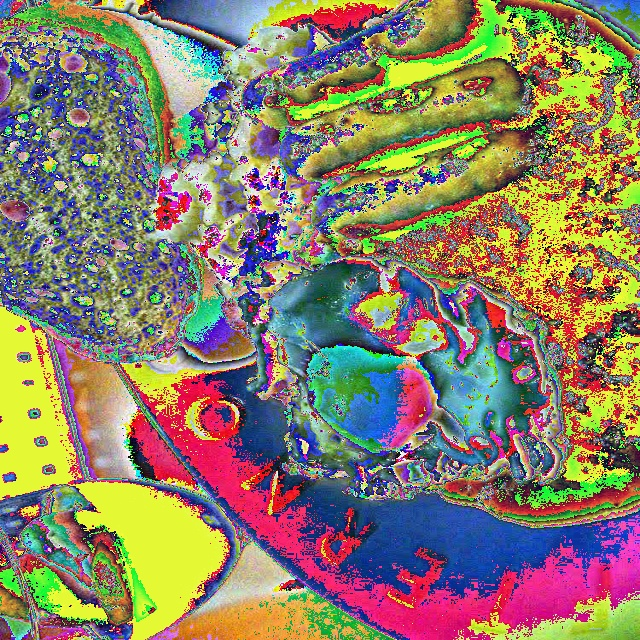background: (5, 0, 639, 527), (52, 161, 246, 639)
